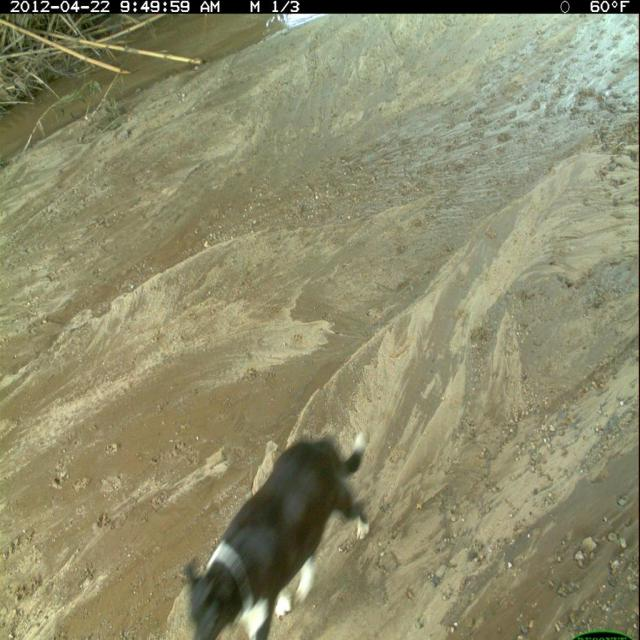dog: (178, 429, 376, 640)
